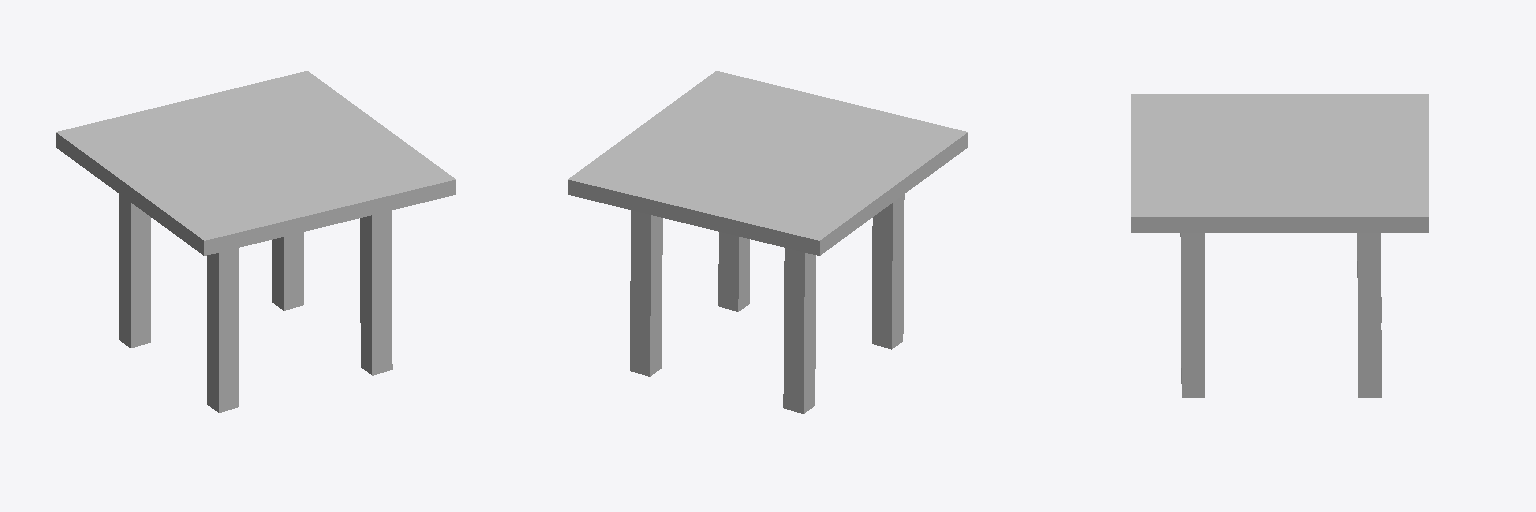
Rendered from Scrum 1 Mesa 1.1.obj.
The picture shows the model from 3 angles: view 1: azimuth 30°, elevation 25°; view 2: azimuth 150°, elevation 25°; view 3: azimuth 270°, elevation 25°; orthographic projection.
Visible parts, largest first — view 1: Box001, PivotDoor003, PivotDoor002, PivotDoor004, PivotDoor001; view 2: Box001, PivotDoor001, PivotDoor004, PivotDoor003, PivotDoor002; view 3: Box001, PivotDoor001, PivotDoor002.
Part boxes in pixels (bbox=[...]): Box001: bbox=[56, 71, 455, 255]; PivotDoor003: bbox=[207, 248, 238, 412]; PivotDoor002: bbox=[360, 211, 392, 375]; PivotDoor004: bbox=[119, 194, 150, 347]; PivotDoor001: bbox=[272, 232, 303, 310]; Box001: bbox=[568, 71, 967, 255]; PivotDoor001: bbox=[630, 210, 662, 376]; PivotDoor004: bbox=[783, 248, 815, 413]; PivotDoor003: bbox=[872, 194, 904, 349]; PivotDoor002: bbox=[718, 232, 749, 311]; Box001: bbox=[1131, 94, 1428, 232]; PivotDoor001: bbox=[1357, 233, 1381, 397]; PivotDoor002: bbox=[1180, 233, 1204, 397].
Bounding box in the file's own units: 49.43 × 37.58 × 50.53.